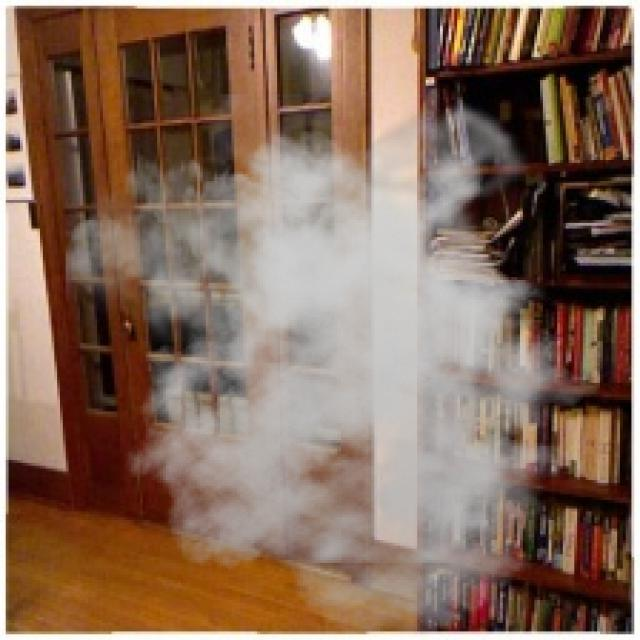smoke: (66, 94, 620, 637)
